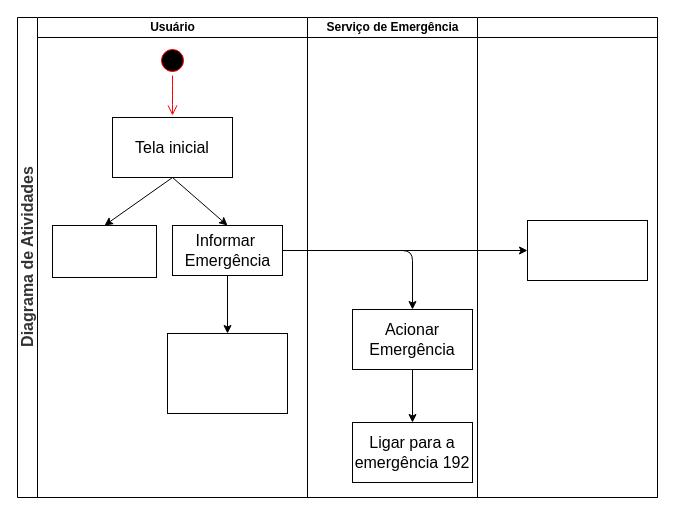
This 675x515 diagram has some shape labels left out. Each missing label, with the box of its shape:
Configurações do sitema: (52, 224, 156, 278)
Contato de Emergência: (476, 16, 658, 498)
Disponibilizar na tela informações do usuário: (166, 332, 288, 414)
Enviar mensagem de emergência: (526, 220, 648, 280)
